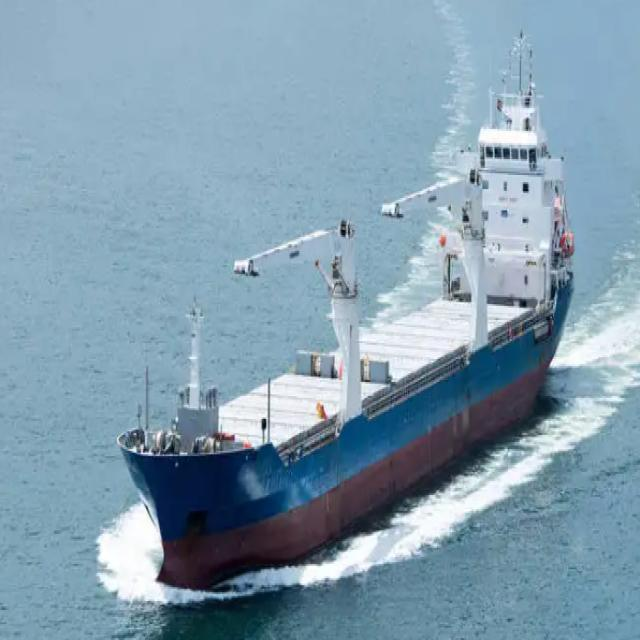cargoship: (113, 41, 578, 585)
